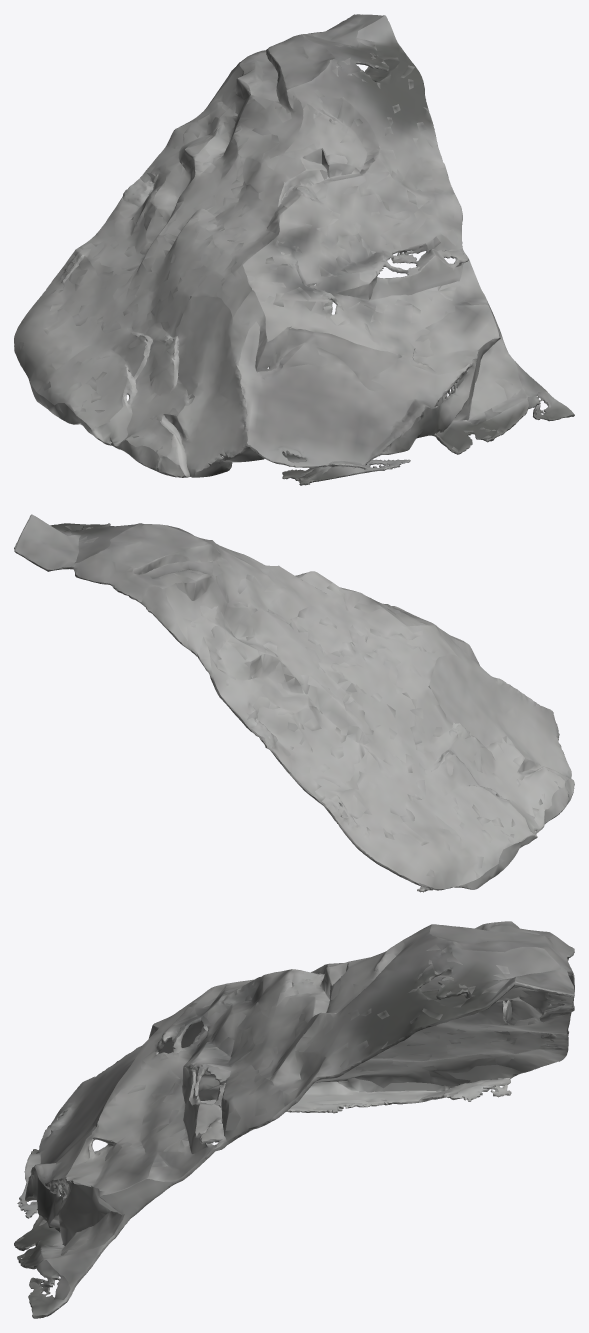
3 views of the same model, one above another, from view 1: azimuth 30°, elevation 25°; view 2: azimuth 150°, elevation 25°; view 3: azimuth 270°, elevation 25° (orthographic). The views are drawn at different scales.
Parts seen in each view (by area): view 1: world; view 2: world; view 3: world.
Part boxes in pixels (<box>): world: <box>14,14,574,485</box>; world: <box>14,514,574,892</box>; world: <box>14,921,574,1318</box>.
Bounding box in the file's own units: 0.12 × 0.0823 × 0.1199.
1 material, 1 textured.
